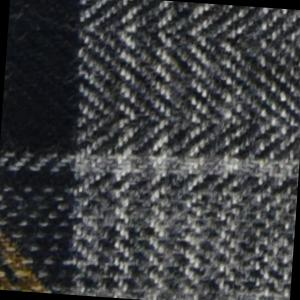Oil Stain: (1, 222, 54, 294)
